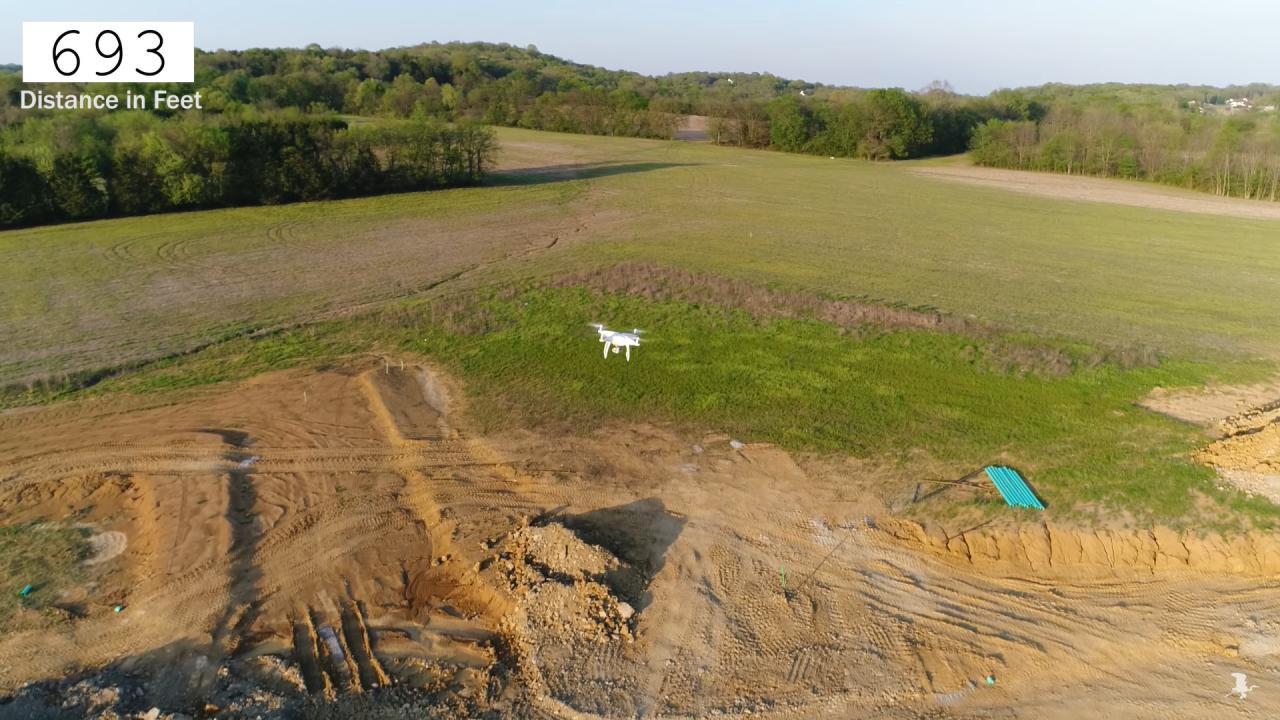Drone: (582, 314, 658, 371)
